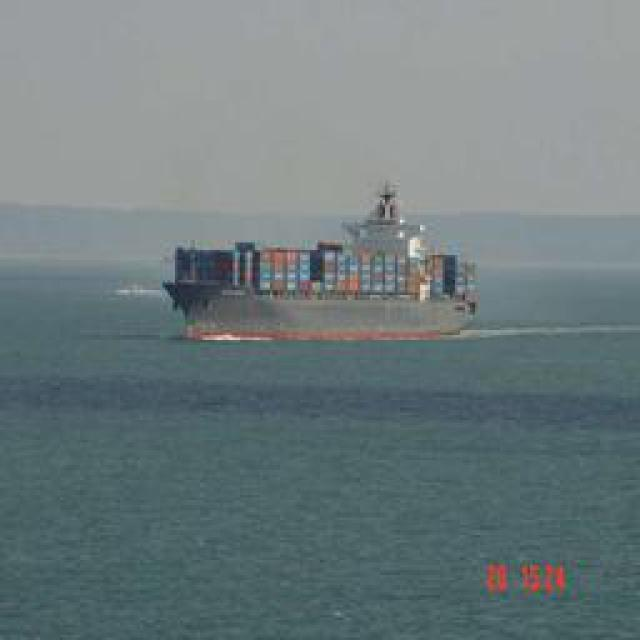Ship: (164, 190, 479, 338)
